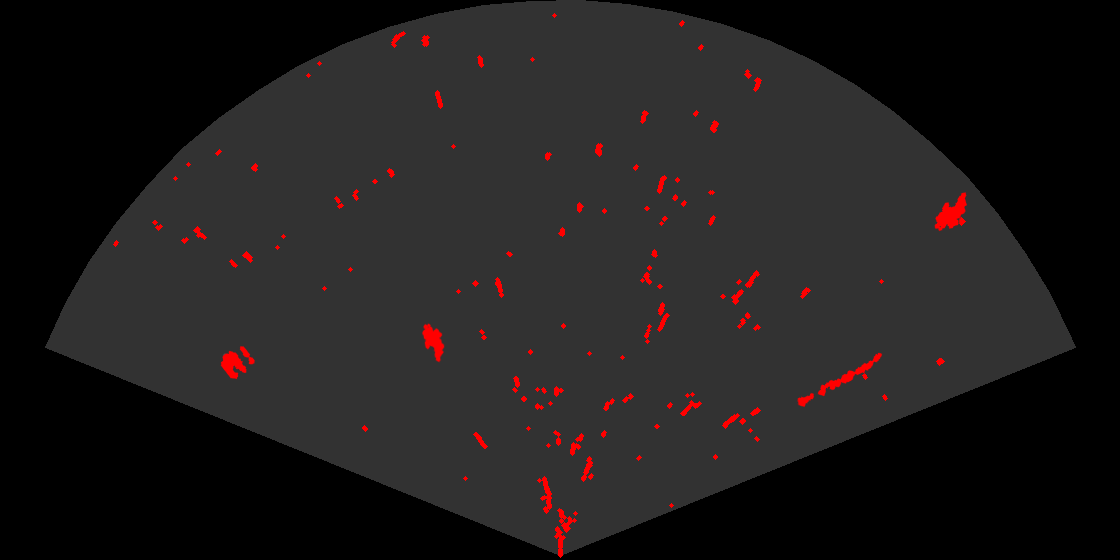AUV: (933, 191, 969, 233), (421, 322, 446, 364)
ball: (219, 345, 256, 381)
chain: (795, 351, 884, 408)
